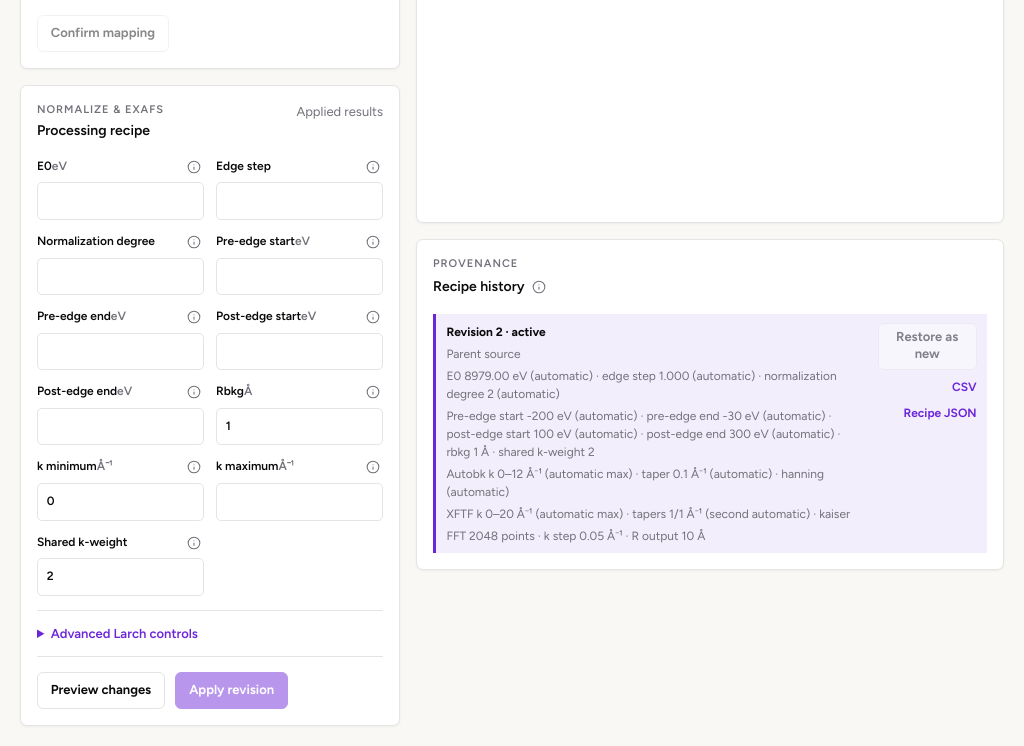
it: WorkbenchShell › keeps the last applied plot visible after an invalid preview
(page scrolled)
Click the button with test id "preview-button" at (101, 690), box left=37, top=672, right=165, bottom=709
(page scrolled)
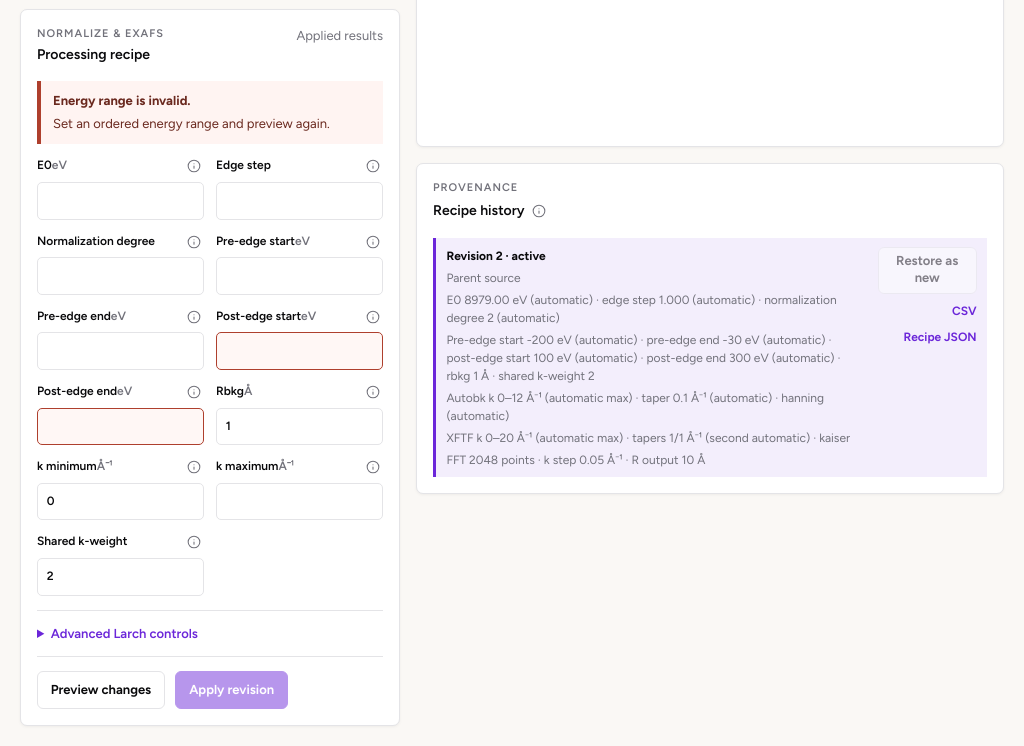
Expected: the button with test id "apply-button" is disabled, left=175, top=672, right=288, bottom=709
Expected: the text "Energy range is invalid." is shown, left=53, top=93, right=191, bottom=108
